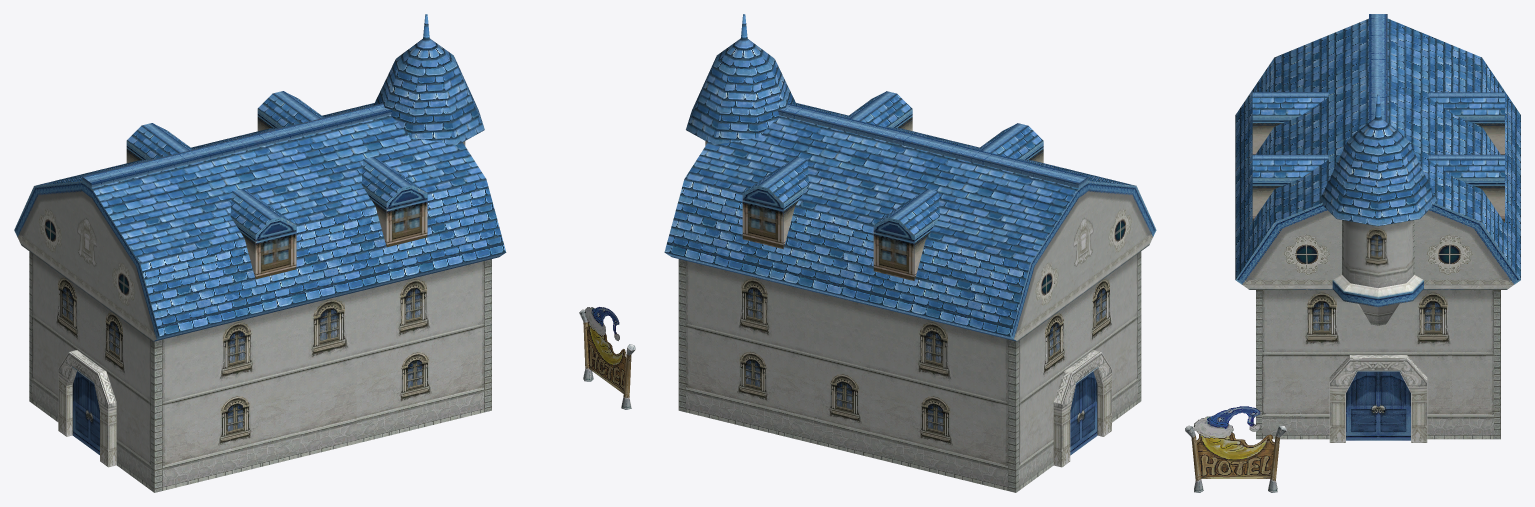
The picture shows the model from 3 angles, left to right: view 1: azimuth 30°, elevation 25°; view 2: azimuth 150°, elevation 25°; view 3: azimuth 270°, elevation 25°; orthographic projection. The views are drawn at different scales.
Visible parts, largest first — view 1: geom_node_1, geom_node_2, geom_node_0; view 2: geom_node_1, geom_node_2; view 3: geom_node_2, geom_node_1, geom_node_0.
Part boxes in pixels (box(x1,y1,x2,y2)): geom_node_1: box(14, 109, 386, 492); geom_node_2: box(227, 14, 506, 443); geom_node_0: box(579, 307, 635, 409); geom_node_1: box(783, 109, 1156, 492); geom_node_2: box(664, 14, 943, 443); geom_node_2: box(1235, 94, 1520, 442); geom_node_1: box(1235, 14, 1520, 206); geom_node_0: box(1185, 406, 1286, 492).
Size of the model in its own units: 13.17 by 9.73 by 8.6.
7 materials, 7 textured.
